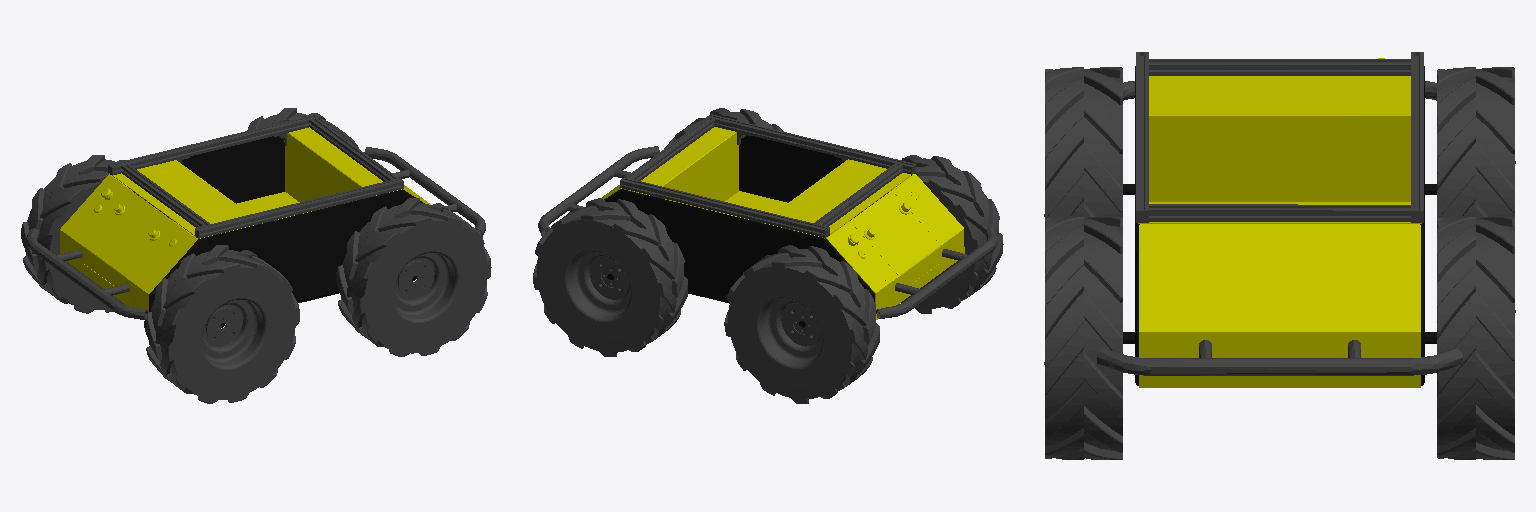
robot.urdf — husky_robot:
<?xml version="1.0" ?>
<!-- =================================================================================== -->
<!-- |    This document was autogenerated by xacro from ../urdf/husky.urdf.xacro       | -->
<!-- |    EDITING THIS FILE BY HAND IS NOT RECOMMENDED                                 | -->
<!-- =================================================================================== -->
<!--
Software License Agreement (BSD)

\file      husky.urdf.xacro
\authors   [author] <[email redacted]>
\copyright Copyright (c) 2015, Clearpath Robotics, Inc., All rights reserved.

Redistribution and use in source and binary forms, with or without modification, are permitted provided that
the following conditions are met:
 * Redistributions of source code must retain the above copyright notice, this list of conditions and the
   following disclaimer.
 * Redistributions in binary form must reproduce the above copyright notice, this list of conditions and the 
   following disclaimer in the documentation and/or other materials provided with the distribution.
 * Neither the name of Clearpath Robotics nor the names of its contributors may be used to endorse or promote
   products derived from this software without specific prior written permission.

THIS SOFTWARE IS PROVIDED BY THE COPYRIGHT [author] "AS IS" AND ANY EXPRESS OR IMPLIED WAR-
RANTIES, INCLUDING, BUT NOT LIMITED TO, THE IMPLIED WARRANTIES OF MERCHANTABILITY AND FITNESS FOR A PARTICULAR
PURPOSE ARE DISCLAIMED. IN NO EVENT SHALL THE COPYRIGHT [author] LIABLE FOR ANY DIRECT, IN-
DIRECT, INCIDENTAL, SPECIAL, EXEMPLARY, OR CONSEQUENTIAL DAMAGES (INCLUDING, BUT NOT LIMITED TO, PROCUREMENT
OF SUBSTITUTE GOODS OR SERVICES; LOSS OF USE, DATA, OR PROFITS; OR BUSINESS INTERRUPTION) HOWEVER CAUSED AND
ON ANY THEORY OF LIABILITY, WHETHER IN CONTRACT, STRICT LIABILITY, OR TORT (INCLUDING NEGLIGENCE OR OTHERWISE)
ARISING IN ANY WAY OUT OF THE USE OF THIS SOFTWARE, EVEN IF ADVISED OF THE POSSIBILITY OF SUCH DAMAGE.
-->
<robot name="husky_robot">
  <!-- Chassis link is the center of the robot's bottom plate -->
  <link name="base_link">
    <visual>
      <origin rpy="0 0 0" xyz="0 0 0"/>
      <geometry>
        <mesh filename="meshes/base_link.dae"/>
      </geometry>
      <material name="Black">
        <color rgba="0.1 0.1 0.1 1.0"/>
      </material>
    </visual>
    <collision>
      <origin rpy="0 0 0" xyz="0 0 0.12498"/>
      <geometry>
        <!-- Make collision box slightly bigger in x and z directions. -->
        <box size="0.8675 0.44 0.25"/>
      </geometry>
    </collision>
    <inertial>
      <mass value="33.455"/>
      <origin xyz="-0.08748 -0.00085 0.09947"/>
      <inertia ixx="0.6022" ixy="-0.02364" ixz="-0.1197" iyy="1.7386" iyz="-0.001544" izz="2.0296"/>
    </inertial>
  </link>

  <!-- Husky wheel macros -->
  <link name="front_left_wheel_link">
    <inertial>
      <mass value="2.637"/>
      <origin xyz="0 0 0"/>
      <inertia ixx="0.02467" ixy="0" ixz="0" iyy="0.02467" iyz="0" izz="0.04411"/>
    </inertial>
    <visual>
      <origin rpy="0 0 0" xyz="0 0 0"/>
      <geometry>
        <mesh filename="meshes/wheel.dae"/>
      </geometry>
      <material name="DarkGrey">
        <color rgba="0.3 0.3 0.3 1.0"/>
      </material>
    </visual>
    <collision>
      <origin rpy="0 0 0" xyz="0.05775 0 0.09216"/>
      <geometry>
        <box size="0.24 0.1143 0.25"/>
      </geometry>
    </collision>
  </link>

  <joint name="front_left_wheel" type="fixed">
    <parent link="base_link"/>
    <child link="front_left_wheel_link"/>
    <origin rpy="0 0 0" xyz="0.256 0.2854 0.03282"/>
    <axis rpy="0 0 0" xyz="0 1 0"/>
  </joint>

  <link name="front_right_wheel_link">
    <inertial>
      <mass value="2.637"/>
      <origin xyz="0 0 0"/>
      <inertia ixx="0.02467" ixy="0" ixz="0" iyy="0.02467" iyz="0" izz="0.04411"/>
    </inertial>
    <visual>
      <origin rpy="0 0 0" xyz="0 0 0"/>
      <geometry>
        <mesh filename="meshes/wheel.dae"/>
      </geometry>
      <material name="DarkGrey">
        <color rgba="0.3 0.3 0.3 1.0"/>
      </material>
    </visual>
    <collision>
      <origin rpy="0 0 0" xyz="0.05775 0 0.09216"/>
      <geometry>
        <box size="0.24 0.1143 0.25"/>
      </geometry>
    </collision>
  </link>

  <joint name="front_right_wheel" type="fixed">
    <parent link="base_link"/>
    <child link="front_right_wheel_link"/>
    <origin rpy="0 0 0" xyz="0.256 -0.2854 0.03282"/>
    <axis rpy="0 0 0" xyz="0 1 0"/>
  </joint>

  <link name="rear_left_wheel_link">
    <inertial>
      <mass value="2.637"/>
      <origin xyz="0 0 0"/>
      <inertia ixx="0.02467" ixy="0" ixz="0" iyy="0.02467" iyz="0" izz="0.04411"/>
    </inertial>
    <visual>
      <origin rpy="0 0 0" xyz="0 0 0"/>
      <geometry>
        <mesh filename="meshes/wheel.dae"/>
      </geometry>
      <material name="DarkGrey">
        <color rgba="0.3 0.3 0.3 1.0"/>
      </material>
    </visual>
    <collision>
      <origin rpy="0 0 0" xyz="-0.05775 0 0.09216"/>
      <geometry>
        <box size="0.24 0.1143 0.25"/>
      </geometry>
    </collision>
  </link>

  <joint name="rear_left_wheel" type="fixed">
    <parent link="base_link"/>
    <child link="rear_left_wheel_link"/>
    <origin rpy="0 0 0" xyz="-0.256 0.2854 0.03282"/>
    <axis rpy="0 0 0" xyz="0 1 0"/>
  </joint>

  <link name="rear_right_wheel_link">
    <inertial>
      <mass value="2.637"/>
      <origin xyz="0 0 0"/>
      <inertia ixx="0.02467" ixy="0" ixz="0" iyy="0.02467" iyz="0" izz="0.04411"/>
    </inertial>
    <visual>
      <origin rpy="0 0 0" xyz="0 0 0"/>
      <geometry>
        <mesh filename="meshes/wheel.dae"/>
      </geometry>
      <material name="DarkGrey">
        <color rgba="0.3 0.3 0.3 1.0"/>
      </material>
    </visual>
    <collision>
      <origin rpy="0 0 0" xyz="-0.05775 0 0.09216"/>
      <geometry>
        <box size="0.24 0.1143 0.25"/>
      </geometry>
    </collision>
  </link>

  <joint name="rear_right_wheel" type="fixed">
    <parent link="base_link"/>
    <child link="rear_right_wheel_link"/>
    <origin rpy="0 0 0" xyz="-0.256 -0.2854 0.03282"/>
    <axis rpy="0 0 0" xyz="0 1 0"/>
  </joint>

  <link name="top_plate_link">
    <visual>
      <origin rpy="0 0 0" xyz="0 0 0"/>
      <geometry>
        <mesh filename="meshes/top_plate.dae"/>
      </geometry>
      <material name="Yellow">
        <color rgba="0.8 0.8 0.0 1.0"/>
      </material>
    </visual>
  </link>

  <joint name="top_plate" type="fixed">
    <parent link="base_link"/>
    <child link="top_plate_link"/>
  </joint>

  <link name="user_rail_link">
    <visual>
      <geometry>
        <mesh filename="meshes/user_rail.dae"/>
      </geometry>
      <material name="DarkGrey">
        <color rgba="0.3 0.3 0.3 1.0"/>
      </material>
    </visual>
  </link>

  <joint name="user_rail" type="fixed">
    <origin rpy="0 0 0" xyz="0.272 0 0.245"/>
    <parent link="base_link"/>
    <child link="user_rail_link"/>
  </joint>

  <link name="front_bumper_link">
    <visual>
      <geometry>
        <mesh filename="meshes/bumper.dae"/>
      </geometry>
      <material name="DarkGrey">
        <color rgba="0.3 0.3 0.3 1.0"/>
      </material>
    </visual>
  </link>

  <joint name="front_bumper" type="fixed">
    <origin rpy="0 0 0" xyz="0.48 0 0.091"/>
    <parent link="base_link"/>
    <child link="front_bumper_link"/>
  </joint>

  <link name="rear_bumper_link">
    <visual>
      <geometry>
        <mesh filename="meshes/bumper.dae"/>
      </geometry>
      <material name="DarkGrey">
        <color rgba="0.3 0.3 0.3 1.0"/>
      </material>
    </visual>
  </link>

  <joint name="rear_bumper" type="fixed">
    <origin rpy="0 0 3.14159" xyz="-0.48 0 0.091"/>
    <parent link="base_link"/>
    <child link="rear_bumper_link"/>
  </joint>

  <!-- fake wheel -->

	<link name="left_wheel_link">
		<collision>
      <origin rpy="1.570795 0 0" xyz="0 0 0"/>
			<geometry>
        <cylinder length="0.1143" radius="0.17775"/>
			</geometry>
		</collision>

		<inertial>
			<origin rpy="0 0 0" xyz="0 0 0"/>
			<mass value="2.637"/>
		</inertial>
	</link>

	<joint name="left_wheel" type="continuous">
    <parent link="base_link"/>
		<child link="left_wheel_link"/>
		<origin rpy="0 0 0" xyz="0.0 0.2854 0.03282"/>
		<axis xyz="0 1 0"/>
	</joint>

	<link name="right_wheel_link">
		<collision>
      <origin rpy="1.570795 0 0" xyz="0 0 0"/>
			<geometry>
        <cylinder length="0.1143" radius="0.17775"/>
			</geometry>
		</collision>

		<inertial>
			<origin rpy="0 0 0" xyz="0 0 0"/>
			<mass value="2.637"/>
		</inertial>
	</link>

	<joint name="right_wheel" type="continuous">
    <parent link="base_link"/>
		<child link="right_wheel_link"/>
    <origin rpy="0 0 0" xyz="0.0 -0.2854 0.03282"/>
		<axis xyz="0 1 0"/>
	</joint>

	<link name="front_ball">
		<collision>
			<geometry>
				<sphere radius="0.071"/>
			</geometry>
		</collision>
	</link>

	<joint name="front_ball_joint" type="fixed">
    <parent link="base_link"/>
		<child link="front_ball"/>
		<origin rpy="0 0 0" xyz="0.35 0 -0.073"/>
		<axis xyz="0 1 0"/>
	</joint>

	<link name="rear_ball">
		<collision>
			<geometry>
				<sphere radius="0.071"/>
			</geometry>
		</collision>
	</link>

	<joint name="rear_ball_joint" type="fixed">
    <parent link="base_link"/>
		<child link="rear_ball"/>
		<origin rpy="0 0 0" xyz="-0.35 0 -0.073"/>
		<axis xyz="0 1 0"/>
	</joint>

</robot>

--- Facts derived from the render (not from the file) ---
Views: 3 orthographic renders of the robot side by side, from view 1: azimuth 30°, elevation 25°; view 2: azimuth 150°, elevation 25°; view 3: azimuth 270°, elevation 25°.
Robot: husky_robot — 13 links, 12 joints (2 continuous, 10 fixed); root link base_link; default pose: all joints at 0.
Visible links, largest first — view 1: top_plate_link, front_right_wheel_link, rear_right_wheel_link, base_link, user_rail_link, rear_left_wheel_link, rear_bumper_link, front_bumper_link, front_left_wheel_link; view 2: top_plate_link, front_left_wheel_link, rear_left_wheel_link, base_link, user_rail_link, rear_right_wheel_link, rear_bumper_link, front_bumper_link, front_right_wheel_link; view 3: top_plate_link, front_right_wheel_link, front_left_wheel_link, user_rail_link, rear_left_wheel_link, rear_right_wheel_link, front_bumper_link, base_link.
Link boxes in pixels (x1,y1,x2,y2): top_plate_link: (60, 127, 430, 311); front_right_wheel_link: (336, 198, 491, 356); rear_right_wheel_link: (144, 245, 299, 403); base_link: (110, 136, 424, 327); user_rail_link: (108, 115, 403, 238); rear_left_wheel_link: (21, 155, 125, 313); rear_bumper_link: (26, 228, 147, 319); front_bumper_link: (364, 147, 485, 237); front_left_wheel_link: (247, 108, 358, 148); top_plate_link: (601, 127, 964, 319); front_left_wheel_link: (533, 198, 687, 356); rear_left_wheel_link: (724, 245, 879, 403); base_link: (604, 135, 914, 327); user_rail_link: (620, 114, 915, 237); rear_right_wheel_link: (901, 155, 1003, 313); rear_bumper_link: (876, 227, 997, 318); front_bumper_link: (538, 146, 659, 236); front_right_wheel_link: (664, 108, 783, 148); top_plate_link: (1138, 58, 1421, 387); front_right_wheel_link: (1044, 216, 1122, 459); front_left_wheel_link: (1437, 216, 1515, 459); user_rail_link: (1136, 52, 1423, 222); rear_left_wheel_link: (1437, 67, 1515, 217); rear_right_wheel_link: (1044, 67, 1122, 217); front_bumper_link: (1097, 340, 1462, 375); base_link: (1123, 66, 1436, 385).
Bounding box of the posed robot: 0.9865 × 0.6853 × 0.3909 m (x, y, z).
9 mesh visuals loaded from 5 distinct referenced files (5 Collada DAE).